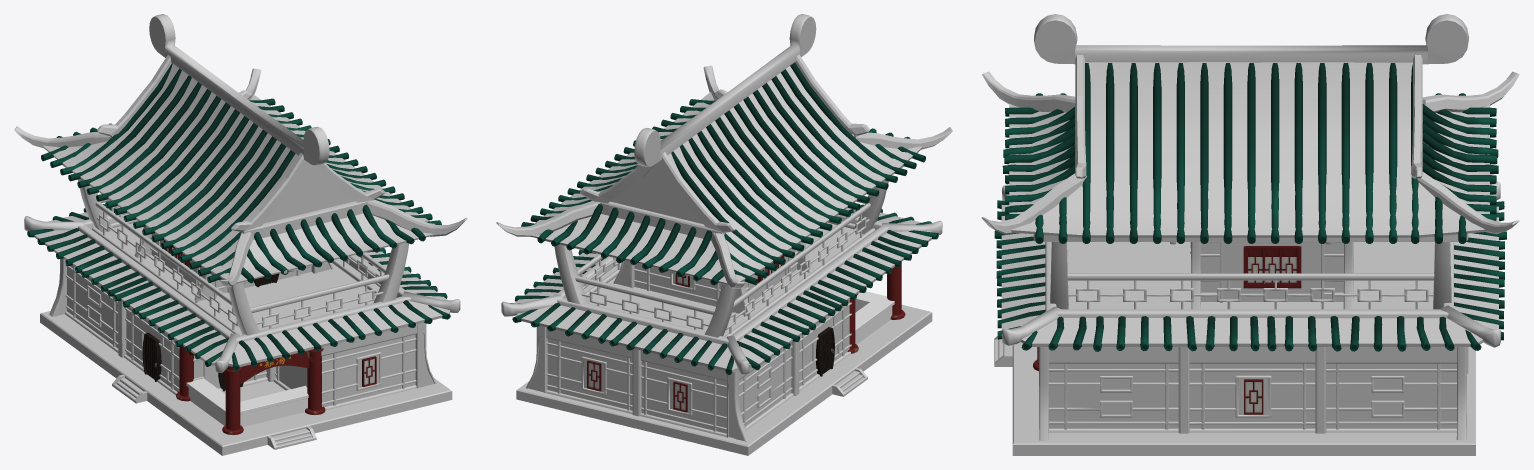
File: Building06.fbx
3 views of the same model, side by side, from view 1: azimuth 30°, elevation 25°; view 2: azimuth 150°, elevation 25°; view 3: azimuth 270°, elevation 25° (orthographic). The views are drawn at different scales.
Visible parts, largest first — view 1: B10_Railing_02.001; view 2: B10_Railing_02.001; view 3: B10_Railing_02.001.
Boxes of the visible parts, box(x1,y1,x2,y2) form: B10_Railing_02.001: box(14, 14, 467, 455); B10_Railing_02.001: box(496, 14, 952, 455); B10_Railing_02.001: box(981, 14, 1519, 455).
Size of the model in its own units: 1274 by 1387 by 1850.
